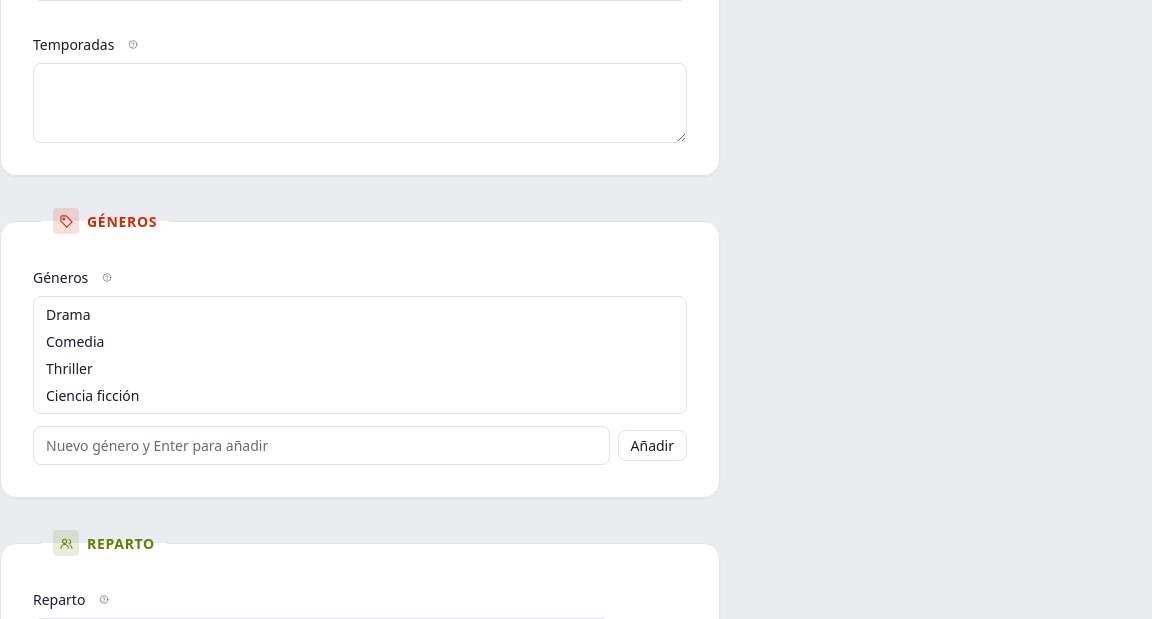
Test: SeriesForm › cierra la ayuda con Escape
This screenshot has width=1152, height=619.
(page scrolled)
Click the button named "ayuda sobre géneros".
click(107, 277)  # box [96, 266, 118, 288]
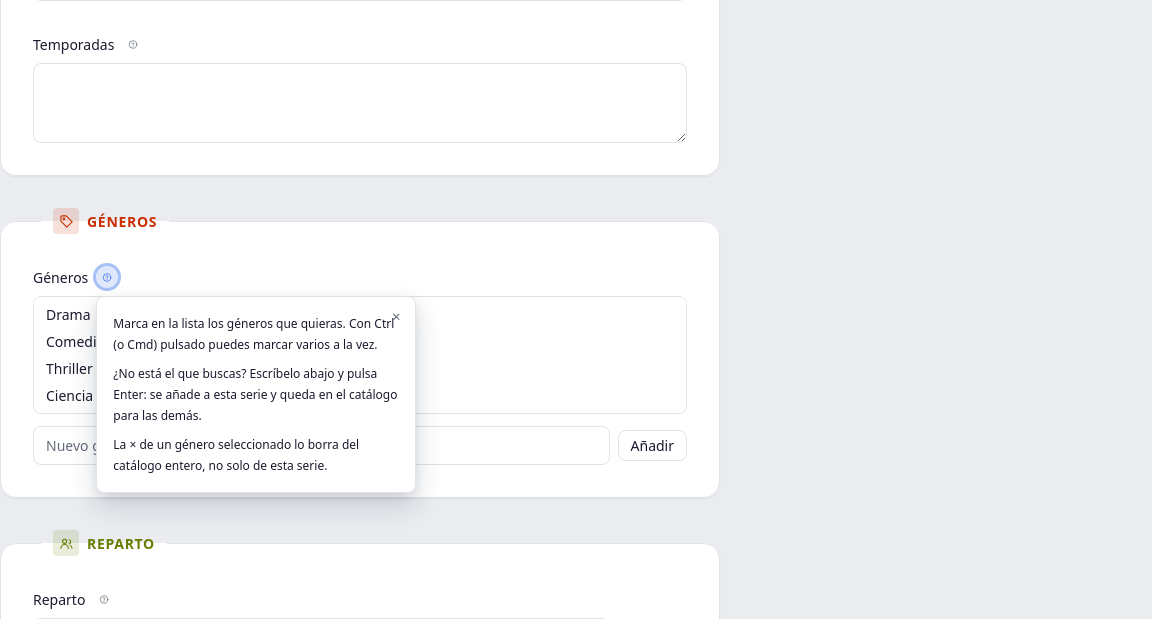
Press Escape
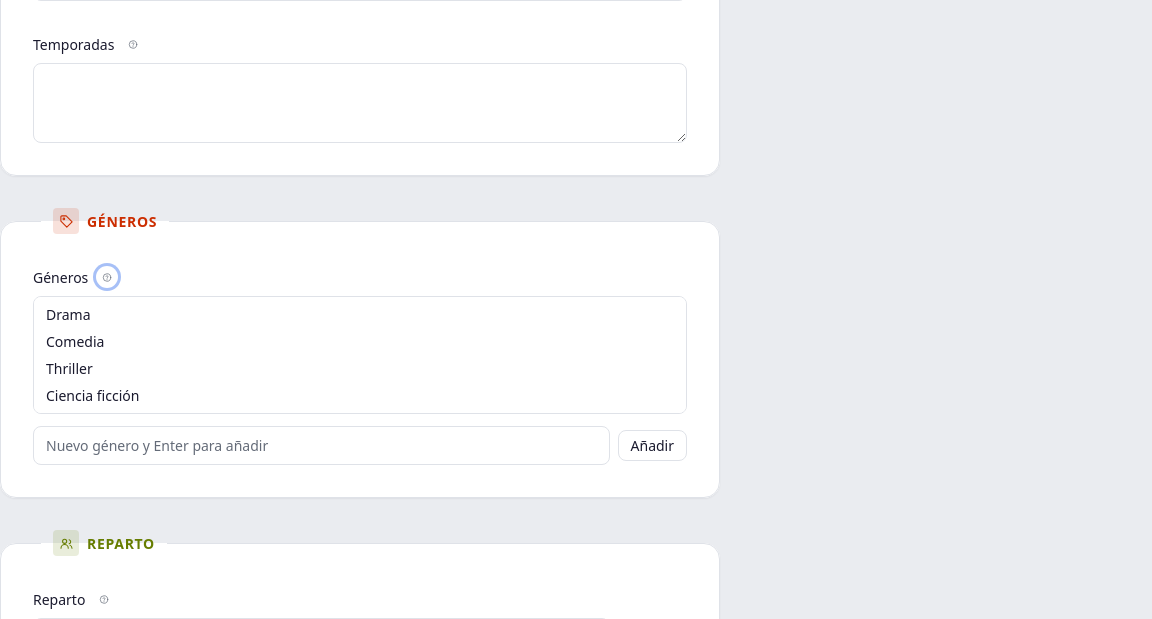
expect the text "borra del catálogo entero" is gone: met
